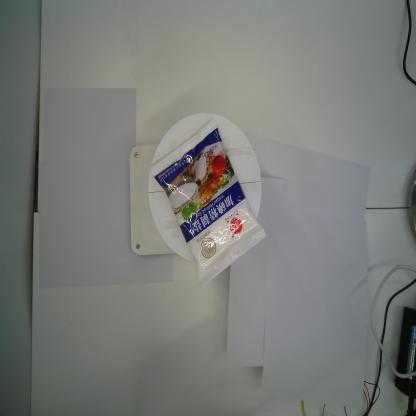Seasoner: (150, 120, 266, 287)
